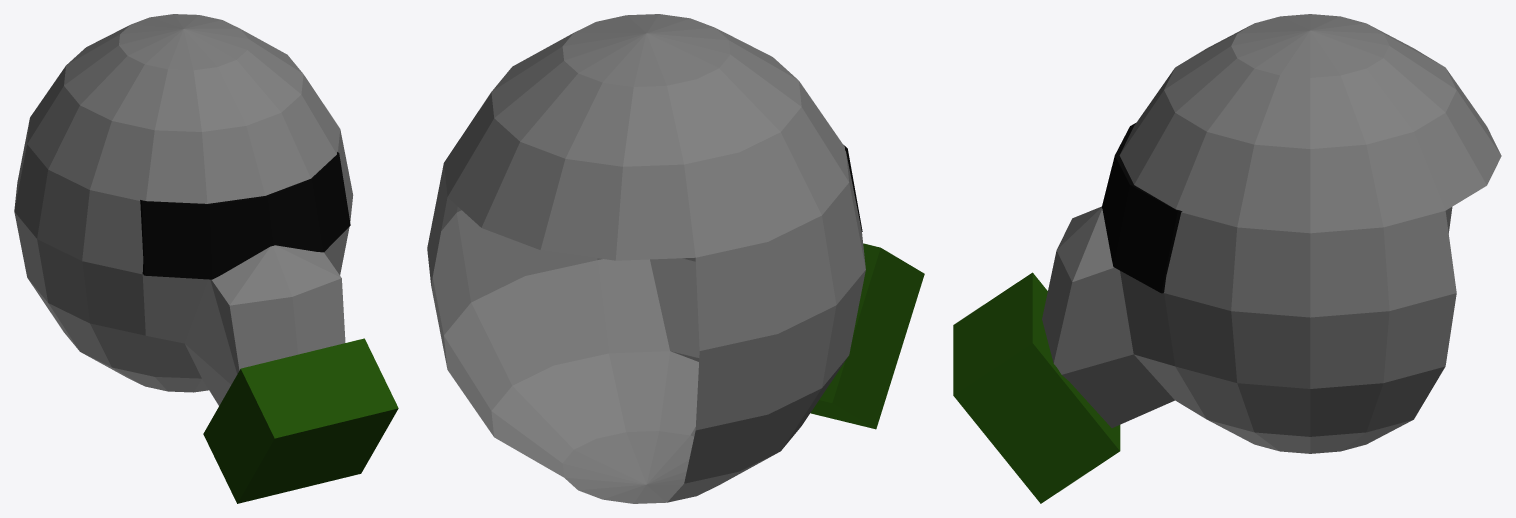
File: gasmask.fbx
The picture shows the model from 3 angles, left to right: view 1: azimuth 30°, elevation 25°; view 2: azimuth 150°, elevation 25°; view 3: azimuth 270°, elevation 25°; orthographic projection. The views are drawn at different scales.
Parts seen in each view (by area): view 1: Main, Filter, Cube; view 2: Main, Filter; view 3: Main, Filter, Cube.
Boxes of the visible parts, bbox=[...] form: Main: bbox=[14, 14, 353, 405]; Filter: bbox=[203, 338, 398, 503]; Cube: bbox=[140, 152, 350, 279]; Main: bbox=[427, 14, 865, 503]; Filter: bbox=[810, 243, 924, 429]; Main: bbox=[1042, 14, 1501, 453]; Filter: bbox=[953, 272, 1120, 503]; Cube: bbox=[1101, 123, 1182, 293].
Bounding box in the file's own units: 314 × 384 × 435.
